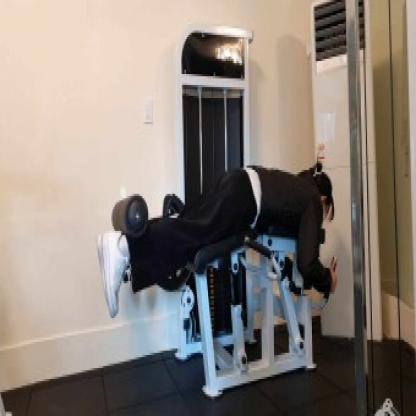reg curl machine: (96, 20, 344, 399)
